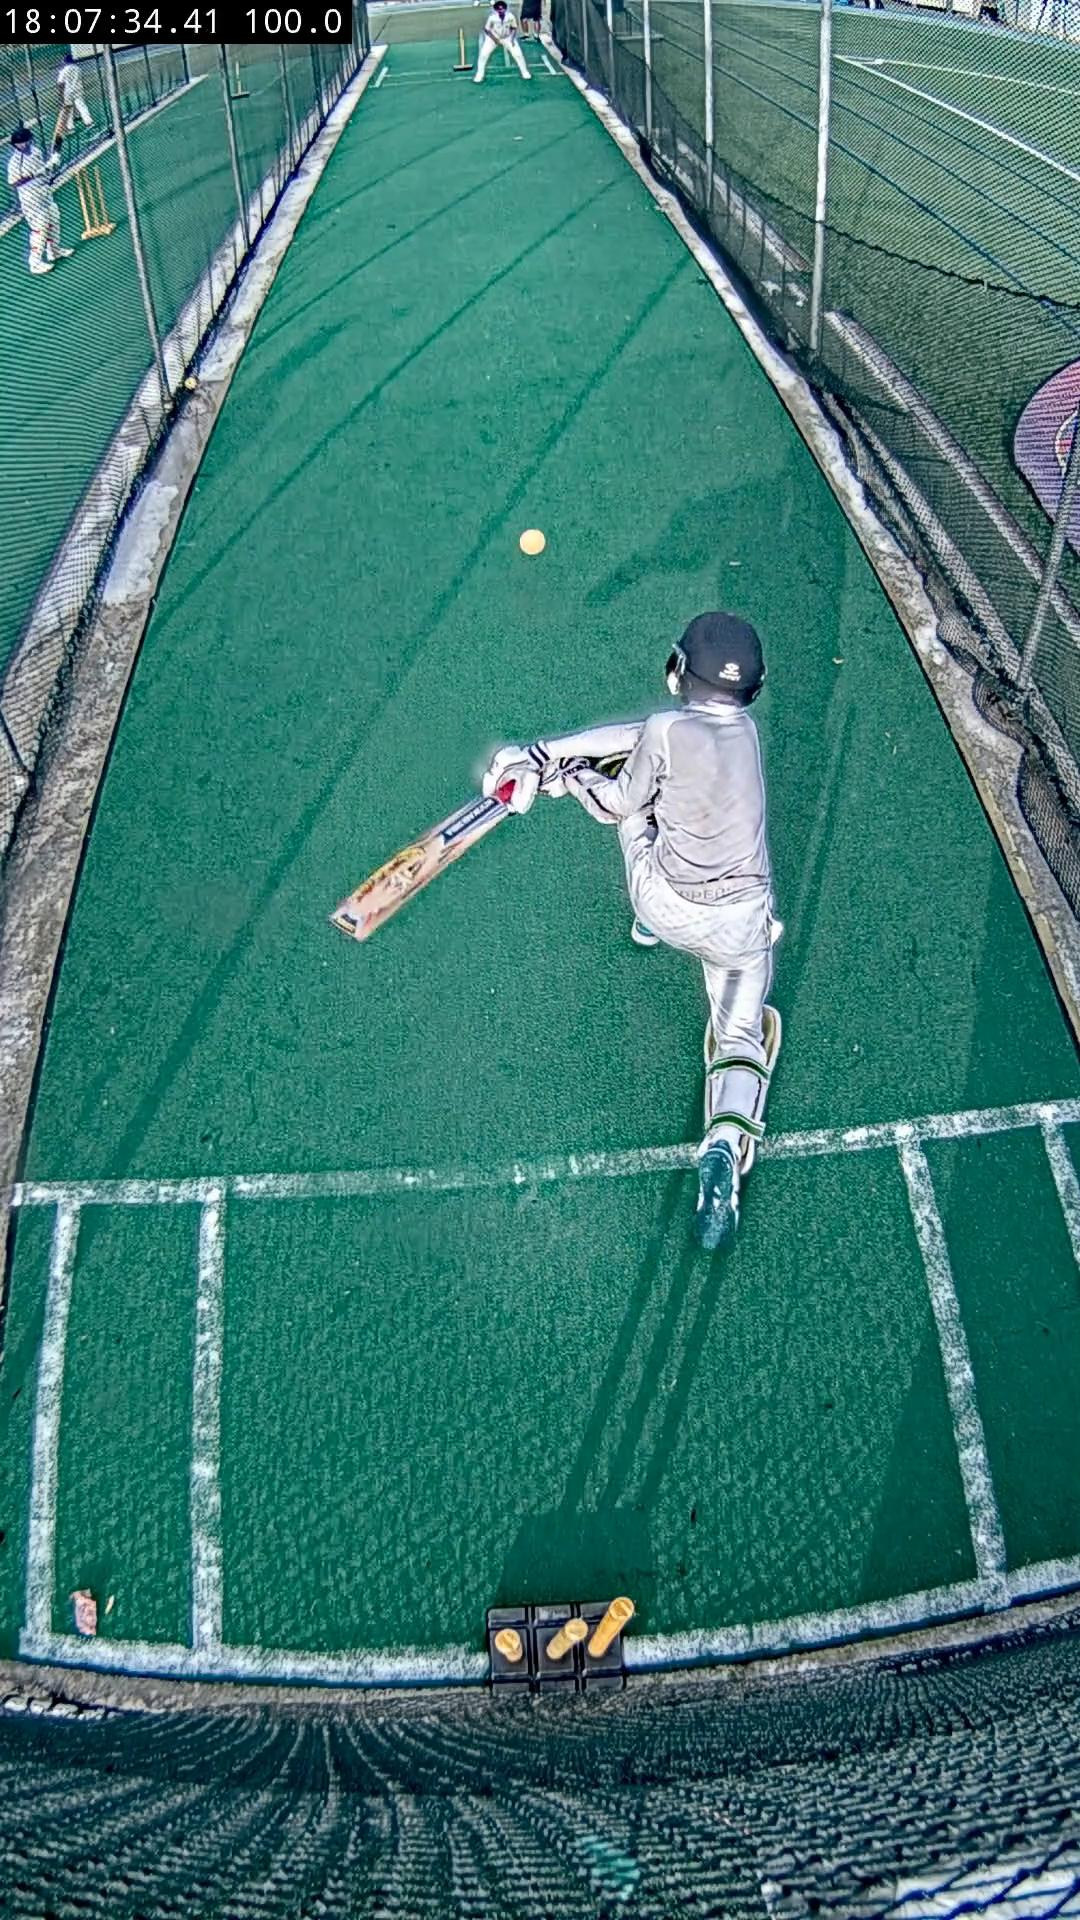ball: (517, 529, 547, 555)
bat: (330, 783, 514, 942)
gloves: (480, 746, 541, 814)
helmet: (679, 612, 765, 699)
pads: (761, 1005, 783, 1076)
stumps: (488, 1597, 634, 1692)
